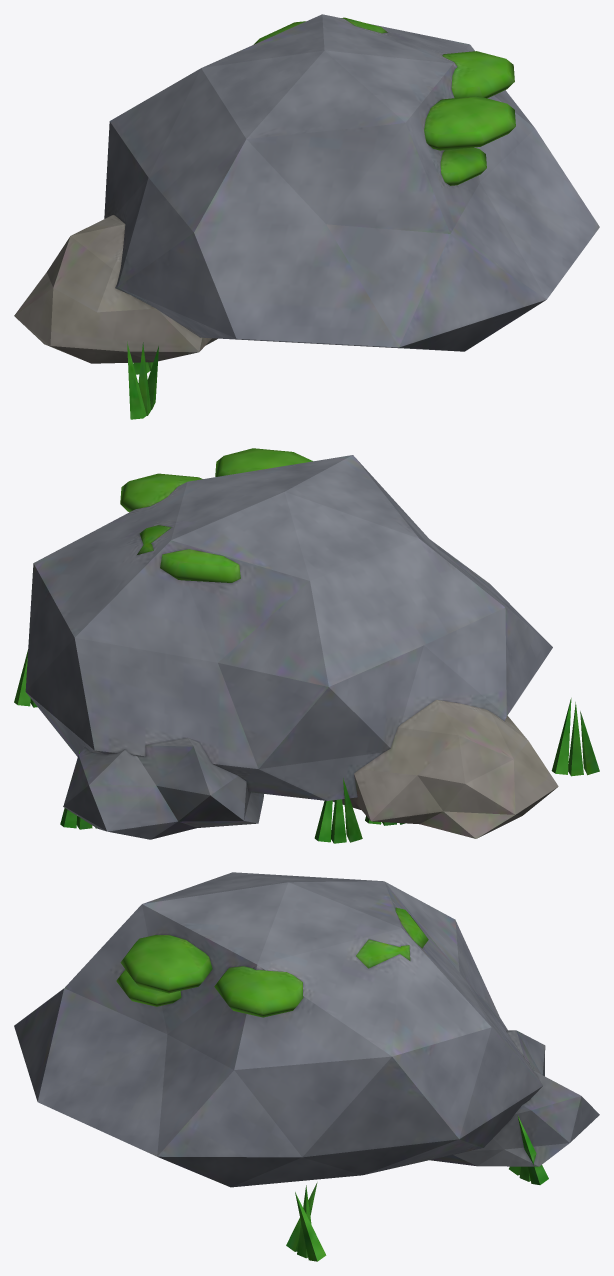
File: rock_obs0.glb
3 views of the same model, one above another, from view 1: azimuth 30°, elevation 25°; view 2: azimuth 150°, elevation 25°; view 3: azimuth 270°, elevation 25° (orthographic). The views are drawn at different scales.
Visible parts, largest first — view 1: rock_obs0; view 2: rock_obs0; view 3: rock_obs0.
Part boxes in pixels (left/top/right/bottom): rock_obs0: left=14, top=14, right=599, bottom=419; rock_obs0: left=14, top=448, right=599, bottom=843; rock_obs0: left=14, top=872, right=599, bottom=1261.
Size of the model in its own units: 0.7789 by 0.3719 by 0.7609.
1 material, 1 textured.
